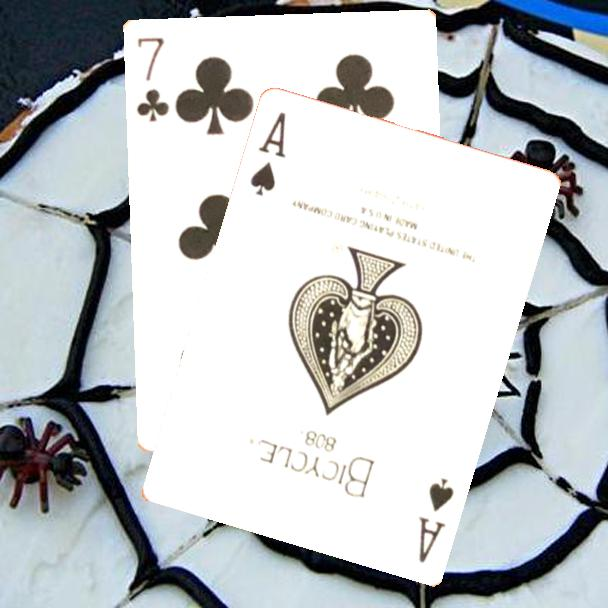c07: (133, 33, 172, 124)
s01: (415, 475, 457, 566), (247, 109, 289, 200)
